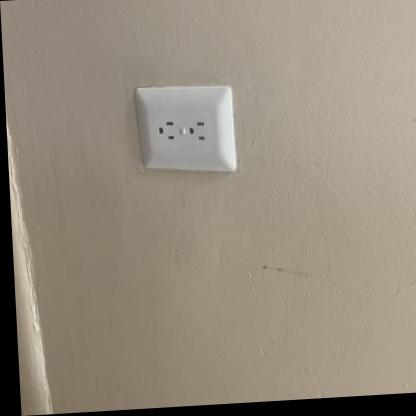OUTLET: (134, 82, 237, 173)
